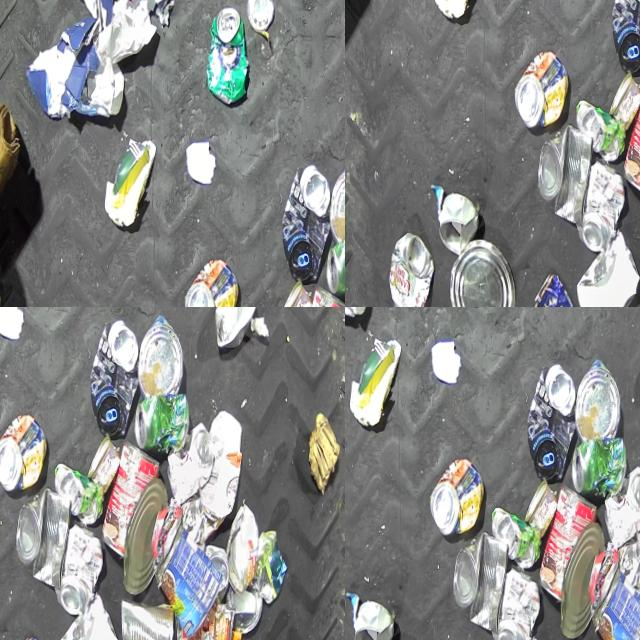can: (152, 526, 222, 640), (100, 443, 162, 563), (536, 487, 598, 607), (536, 126, 596, 233), (451, 532, 510, 640), (15, 489, 74, 596), (280, 167, 332, 286), (88, 322, 140, 441), (526, 366, 578, 485), (122, 483, 169, 599), (559, 526, 606, 640), (446, 236, 516, 307), (576, 162, 626, 257), (54, 525, 104, 620), (428, 459, 484, 539), (204, 8, 248, 108), (514, 52, 568, 132), (165, 426, 213, 511), (137, 317, 184, 401), (574, 361, 621, 445), (0, 415, 46, 495), (387, 231, 435, 307), (491, 568, 541, 640), (589, 570, 640, 640), (132, 396, 188, 459), (570, 440, 624, 503), (490, 507, 540, 574), (224, 507, 258, 602), (602, 469, 640, 554), (576, 100, 624, 167), (54, 463, 102, 530), (438, 195, 480, 259), (183, 260, 238, 307), (610, 0, 640, 77), (120, 598, 175, 640), (621, 79, 640, 200), (213, 307, 258, 356), (522, 483, 558, 542), (86, 439, 120, 498), (607, 76, 640, 135), (225, 588, 262, 640), (173, 609, 235, 640), (533, 271, 585, 307), (352, 601, 394, 640), (205, 548, 228, 608), (324, 240, 345, 304), (329, 162, 345, 246), (246, 0, 274, 35), (277, 284, 312, 307)
